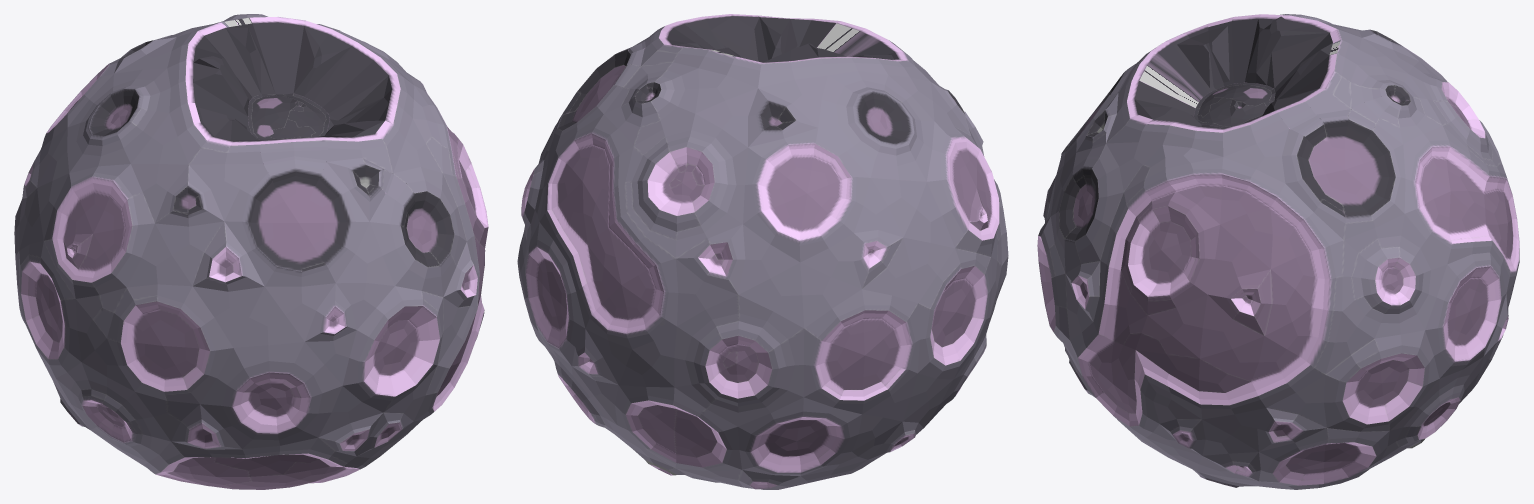
Rendered from MoonFase3.fbx.
3 views of the same model, side by side, from view 1: azimuth 30°, elevation 25°; view 2: azimuth 150°, elevation 25°; view 3: azimuth 270°, elevation 25° (orthographic).
Visible parts, largest first — view 1: 1226 Moon.001, 1226 Moon.002; view 2: 1226 Moon.001, 1226 Moon.002; view 3: 1226 Moon.001, 1226 Moon.002.
Boxes of the visible parts, left/top/right/bottom form: 1226 Moon.001: left=14, top=14, right=488, bottom=489; 1226 Moon.002: left=105, top=16, right=438, bottom=263; 1226 Moon.001: left=517, top=16, right=1008, bottom=489; 1226 Moon.002: left=572, top=14, right=955, bottom=137; 1226 Moon.001: left=1037, top=14, right=1519, bottom=489; 1226 Moon.002: left=1073, top=14, right=1400, bottom=228.
Bounding box in the file's own units: 7423 × 7397 × 7595.
1 material, 1 textured.
